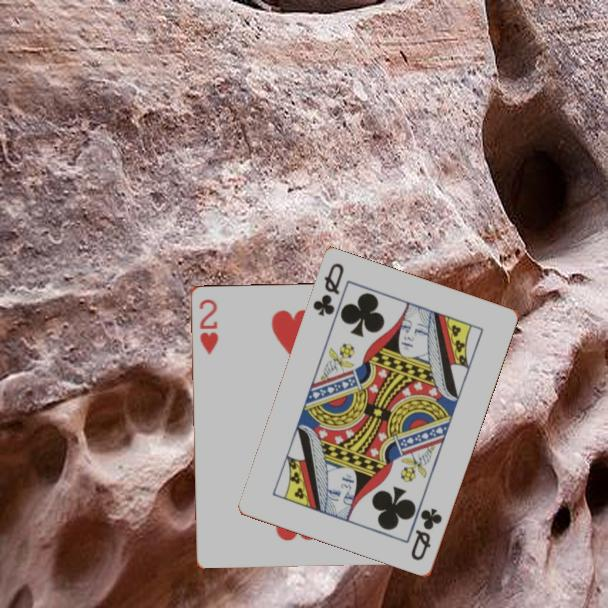c12: (309, 260, 347, 320), (408, 505, 445, 564)
h02: (195, 295, 221, 357)
